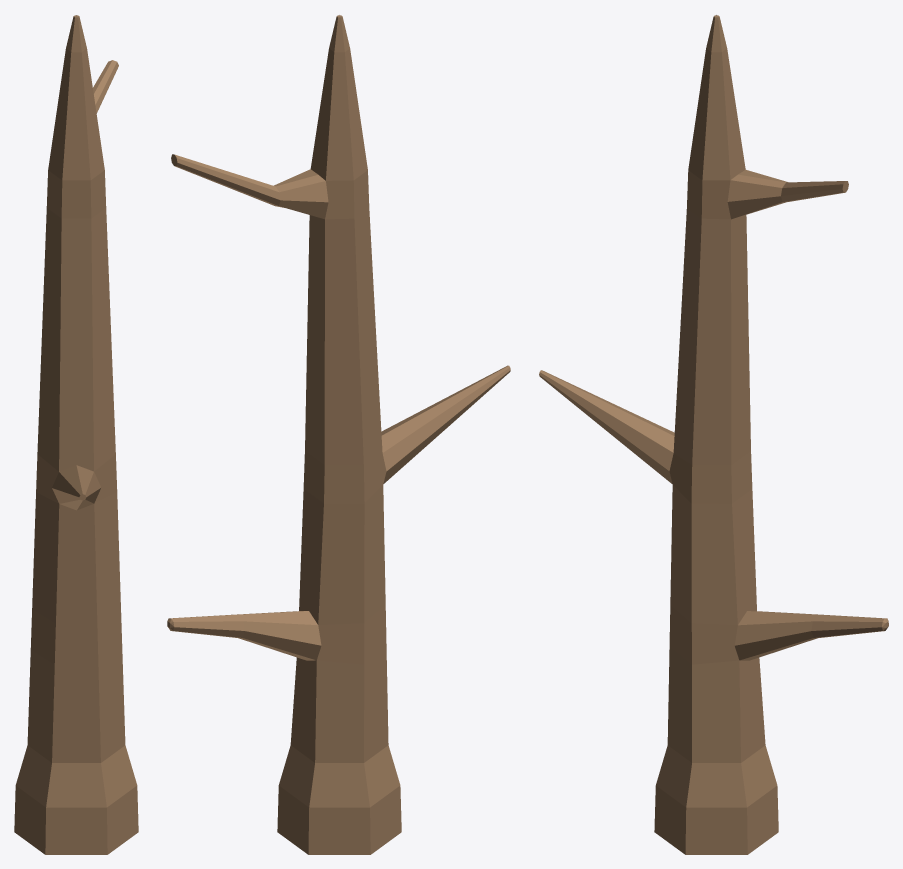
Rendered from Dead_Tree.fbx.
The picture shows the model from 3 angles, left to right: view 1: azimuth 30°, elevation 25°; view 2: azimuth 150°, elevation 25°; view 3: azimuth 270°, elevation 25°; orthographic projection.
Parts seen in each view (by area): view 1: Dead_Tree; view 2: Dead_Tree; view 3: Dead_Tree.
Boxes of the visible parts, left/top/right/bottom form: Dead_Tree: left=14, top=15, right=138, bottom=854; Dead_Tree: left=167, top=15, right=510, bottom=854; Dead_Tree: left=539, top=15, right=888, bottom=854.
Bounding box in the file's own units: 68.94 × 284 × 110.
